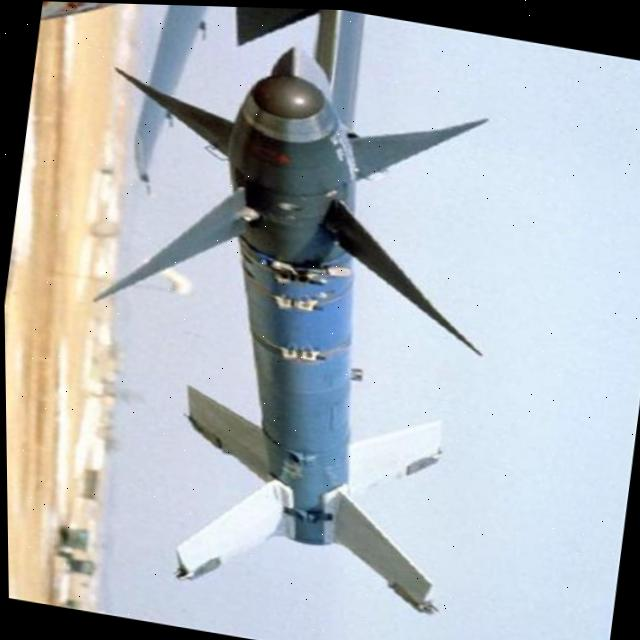missile: (43, 37, 506, 637)
